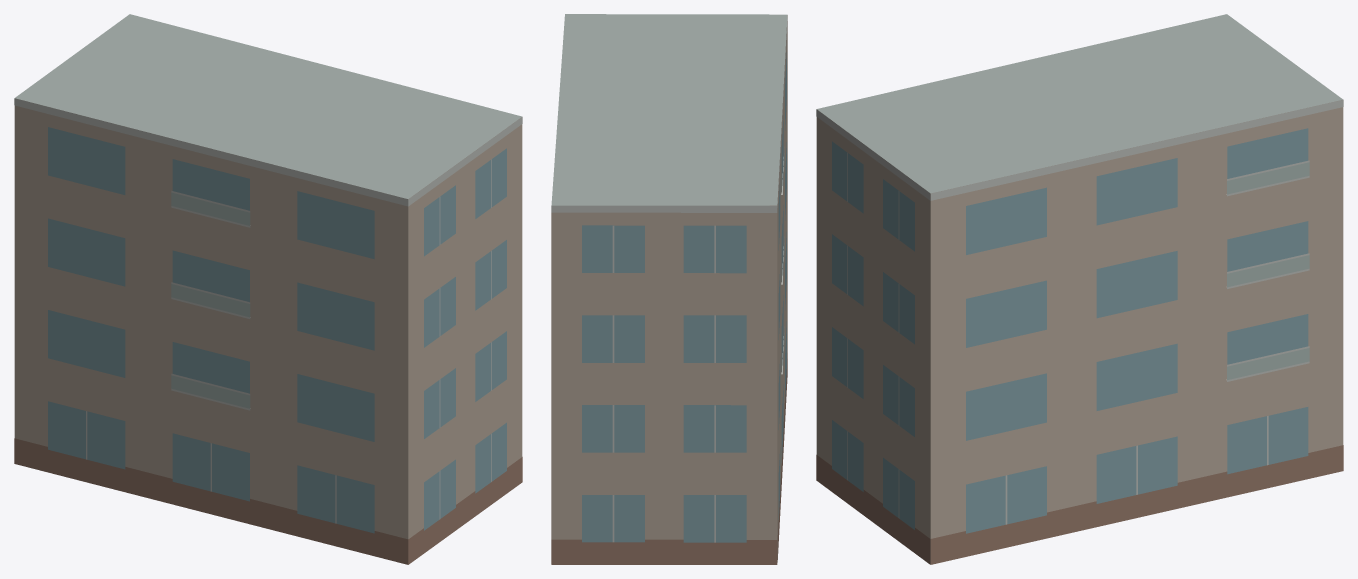
File: survey-upis-32722775.glb
3 renders of one model, left to right at view 1: azimuth 30°, elevation 25°; view 2: azimuth 150°, elevation 25°; view 3: azimuth 270°, elevation 25°, orthographic. The views are drawn at different scales.
Visible parts, largest first — view 1: survey-upis-32722775.tmp; view 2: survey-upis-32722775.tmp; view 3: survey-upis-32722775.tmp.
Part boxes in pixels (bbox=[...]): survey-upis-32722775.tmp: bbox=[14, 14, 522, 564]; survey-upis-32722775.tmp: bbox=[551, 14, 787, 564]; survey-upis-32722775.tmp: bbox=[816, 14, 1343, 564].
Size of the model in its own units: 12.65 by 12.2 by 15.7.
